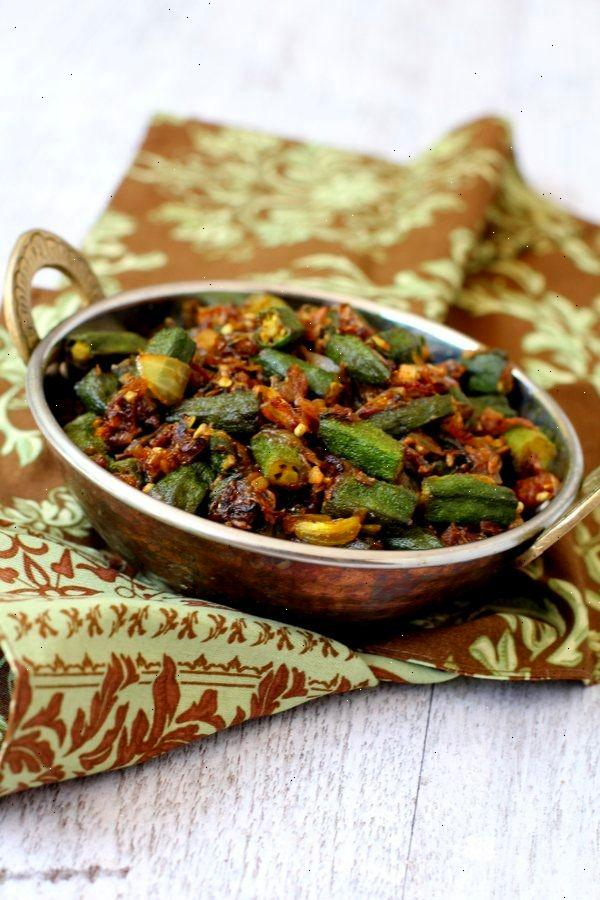bhindi: (61, 296, 550, 545)
